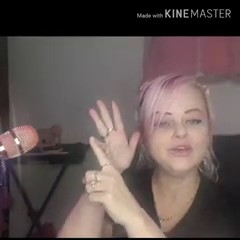U: (76, 92, 148, 215)
